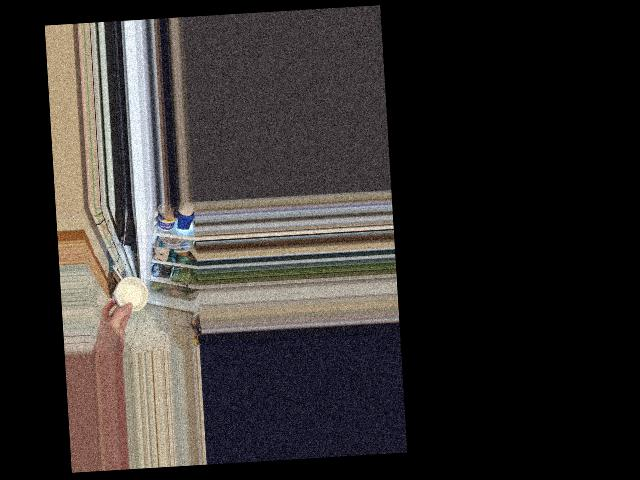cotage: (109, 276, 146, 315)
